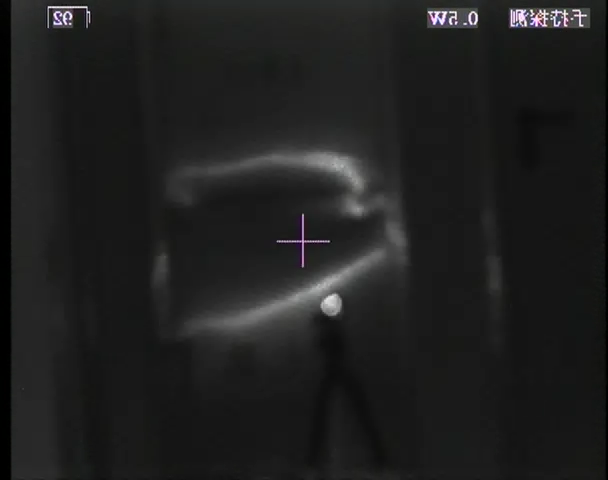my: (318, 292, 343, 317)
